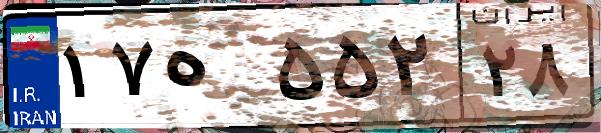1: (57, 26, 110, 100)
2: (385, 28, 445, 110), (475, 38, 525, 113)
5: (270, 28, 330, 110), (330, 28, 385, 110)
7: (110, 28, 158, 98)
8: (525, 38, 570, 115)
ه: (158, 20, 270, 120)
